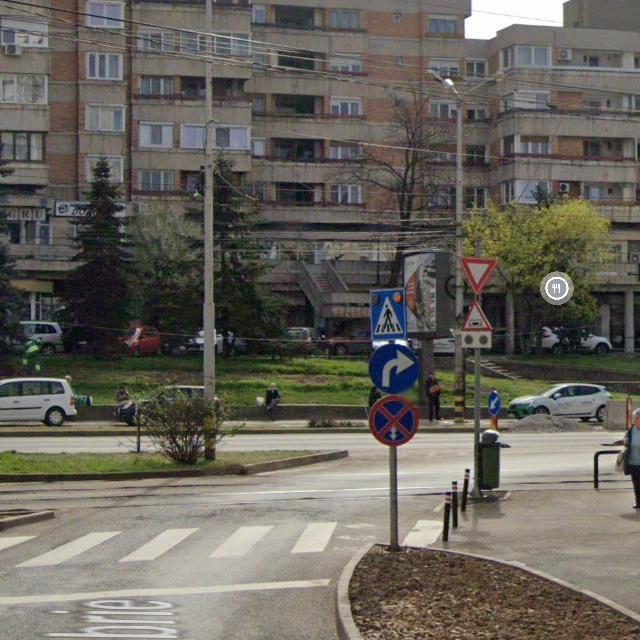forb_waiting: (369, 395, 420, 447)
info_crosswalk: (369, 287, 408, 340)
prio_give_way: (458, 256, 499, 296)
